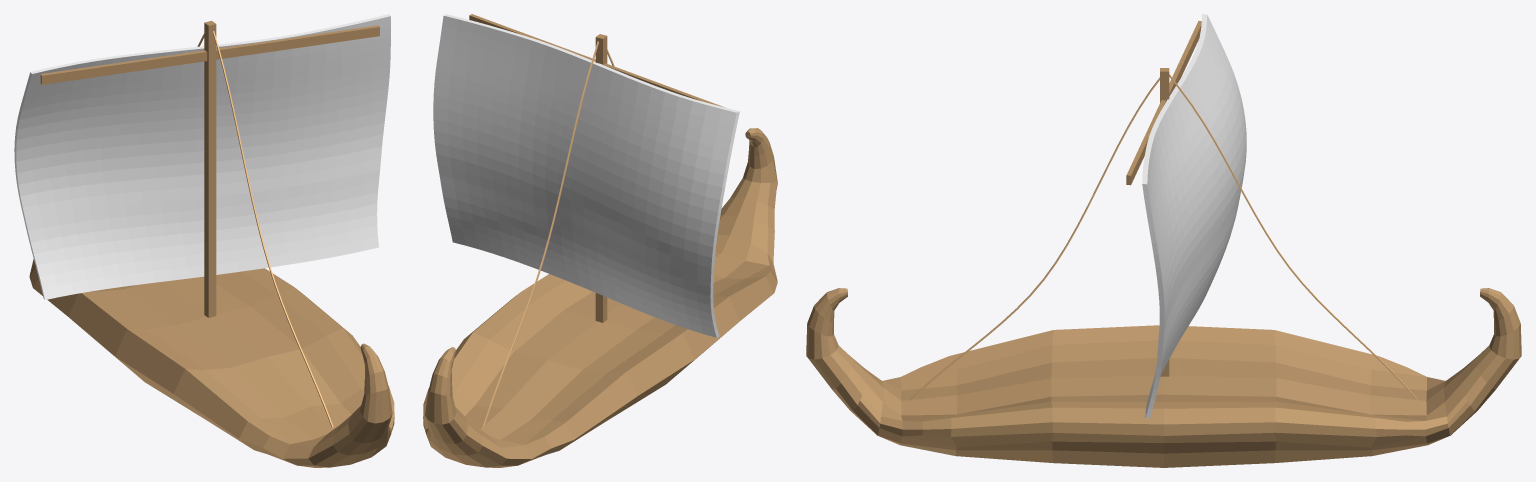
Rendered from BarcoGrande.fbx.
3 renders of one model, left to right at view 1: azimuth 30°, elevation 25°; view 2: azimuth 150°, elevation 25°; view 3: azimuth 270°, elevation 25°, orthographic. The views are drawn at different scales.
Visible parts, largest first — view 1: Cylinder.002; view 2: Cylinder.002; view 3: Cylinder.002.
Part boxes in pixels (x1,y1,x2,y2): Cylinder.002: [14, 14, 394, 467]; Cylinder.002: [423, 14, 777, 467]; Cylinder.002: [806, 14, 1521, 467].
Size of the model in its own units: 1287 by 1360 by 2281.
